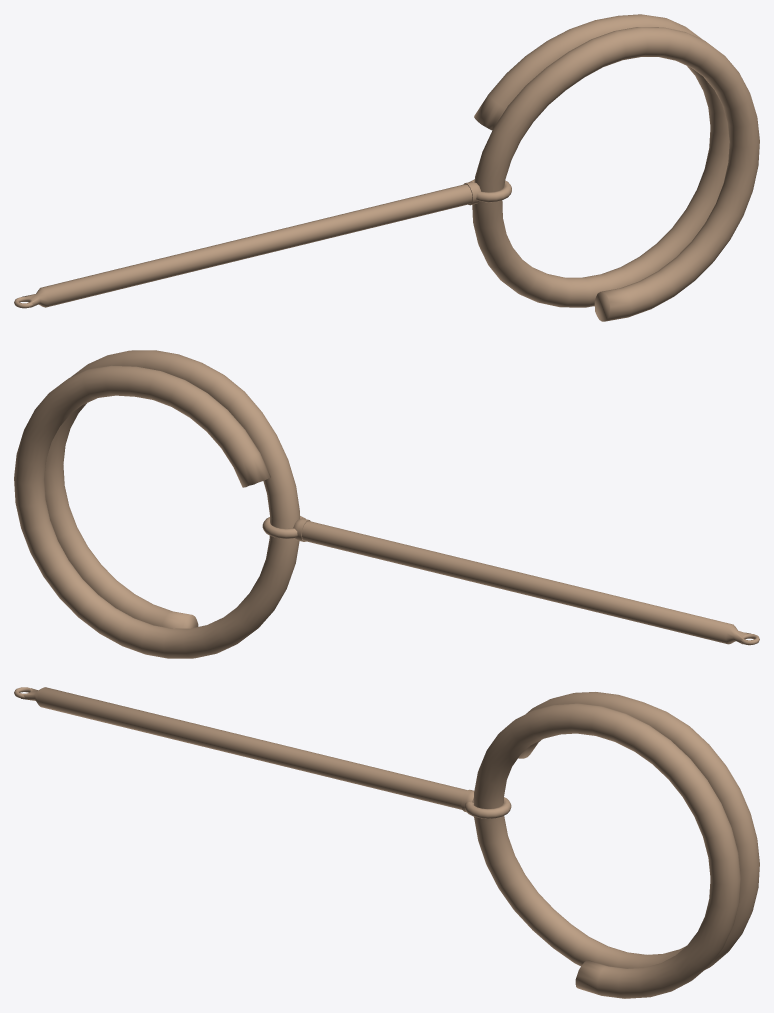
Rendered from Grenade Pin.FBX.
3 views of the same model, one above another, from view 1: azimuth 30°, elevation 25°; view 2: azimuth 150°, elevation 25°; view 3: azimuth 330°, elevation 25° (orthographic).
Visible parts, largest first — view 1: Pin Grip, Pin; view 2: Pin Grip, Pin; view 3: Pin Grip, Pin.
Boxes of the visible parts, x1,y1,x2,y2 form: Pin Grip: [472, 14, 759, 321]; Pin: [14, 179, 511, 308]; Pin Grip: [14, 350, 299, 658]; Pin: [262, 516, 759, 645]; Pin Grip: [474, 692, 759, 998]; Pin: [14, 687, 511, 818].
Size of the model in its own units: 72.68 by 6.8 by 27.08.
